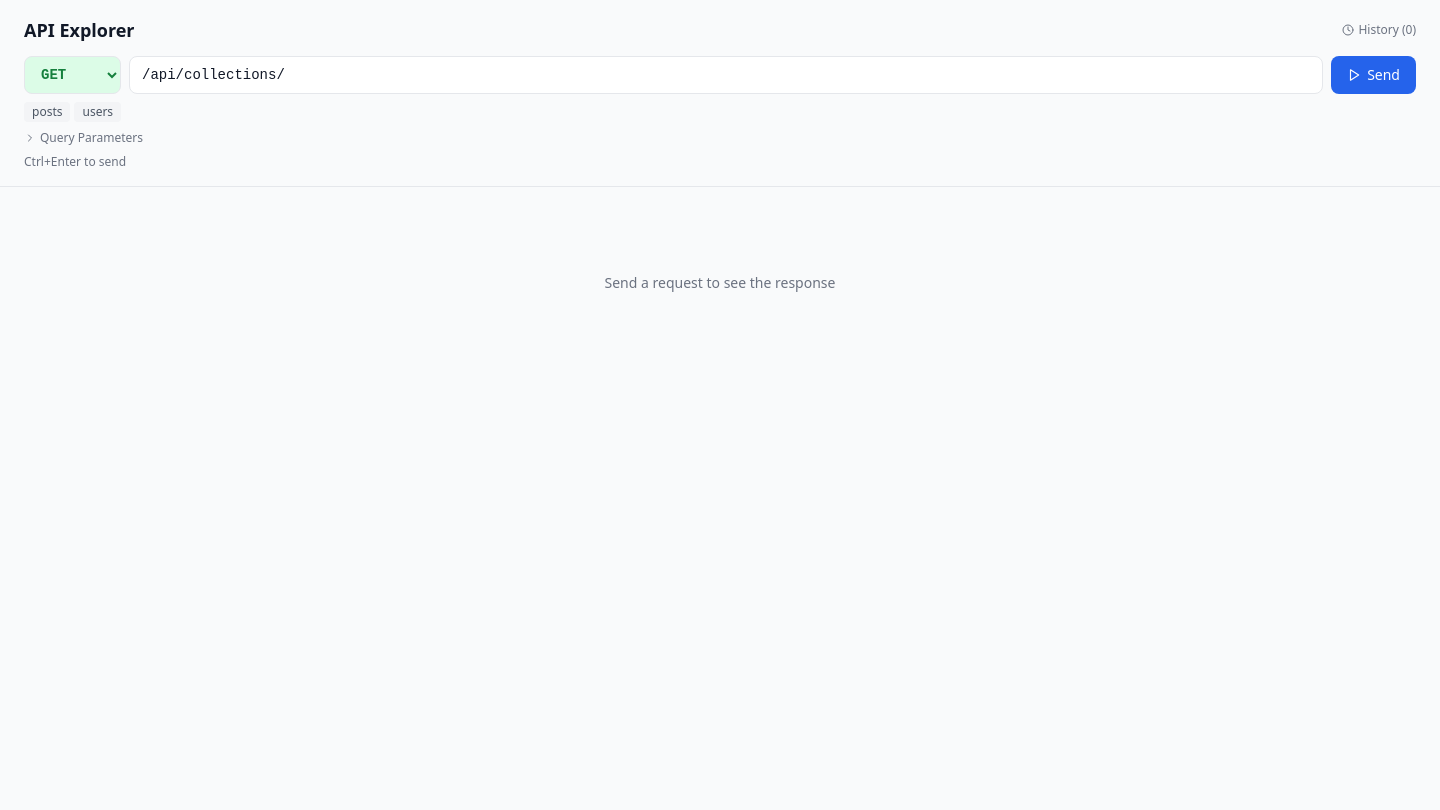
ApiExplorer › shows history panel when clicked
Replace the text in the field named "Request path" with "/api/collections/posts" at (726, 75), box [129,56,1323,94]
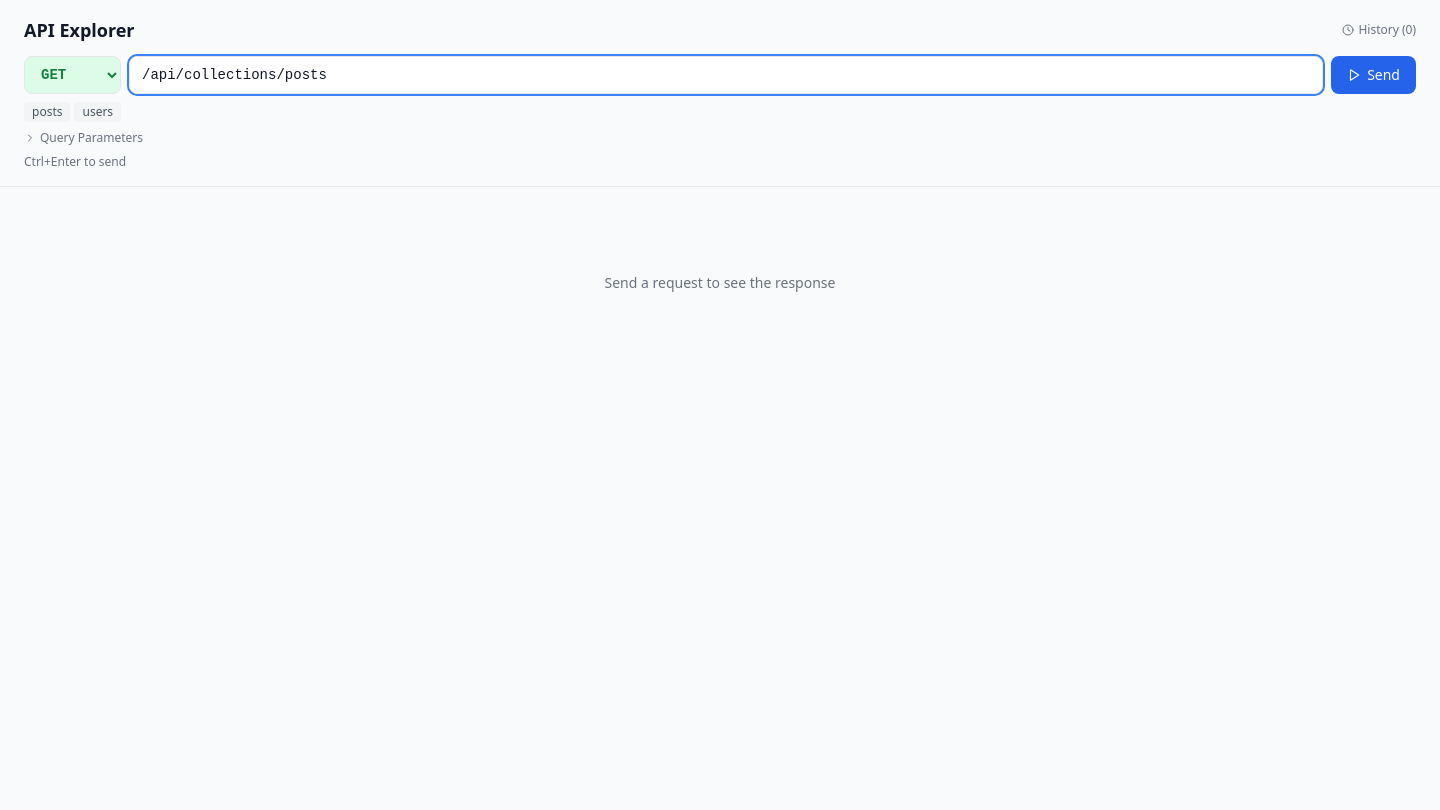
Click the button "Send" at (1374, 75), box [1331,56,1416,94]
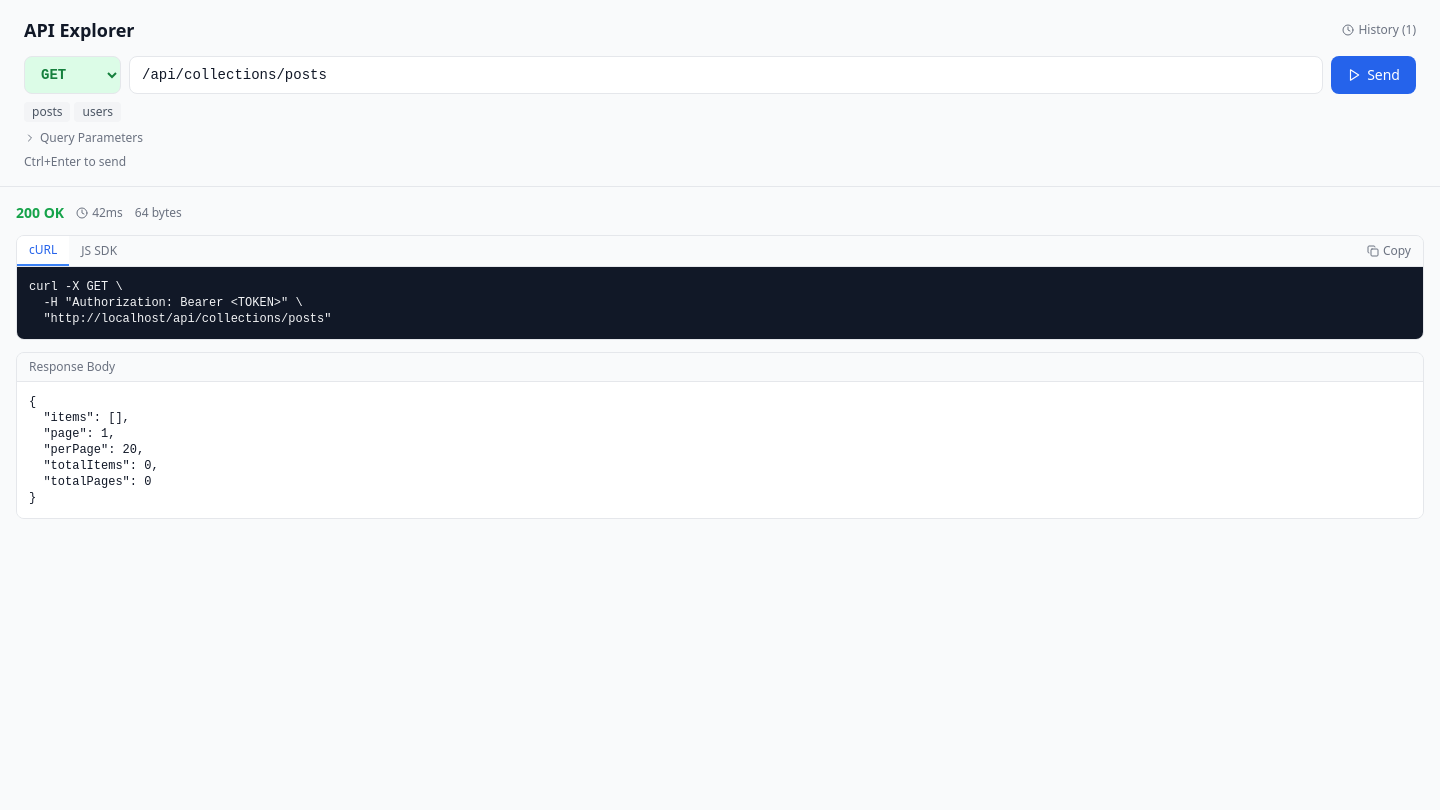
expect the text "200 OK" is shown: met, box [16,203,64,223]
Click the button "History (1)" at (1379, 30), box [1342,22,1416,38]
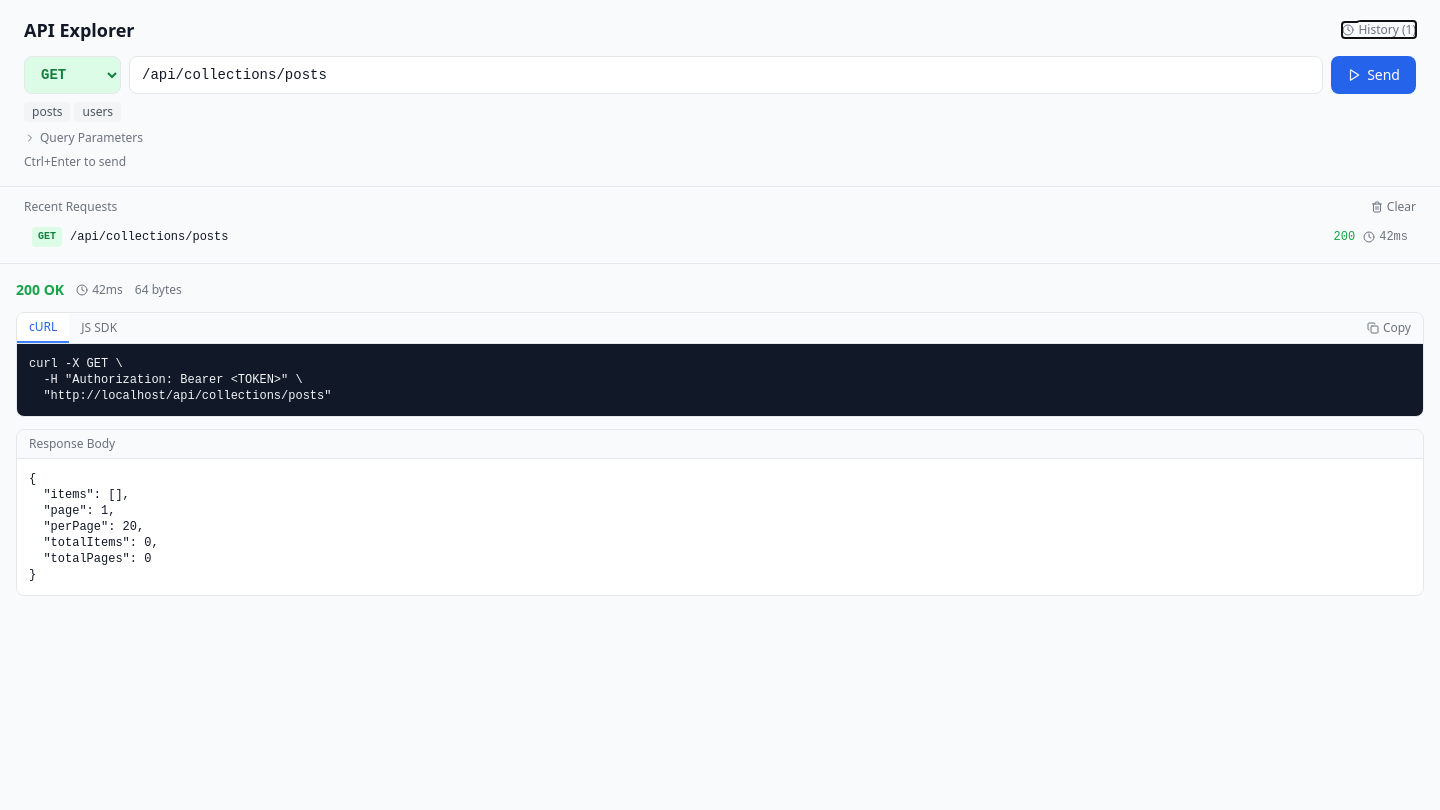
expect the text "Recent Requests" is shown: met, box [24,199,117,215]
expect the button "Clear" is shown: met, box [1371,199,1416,215]
